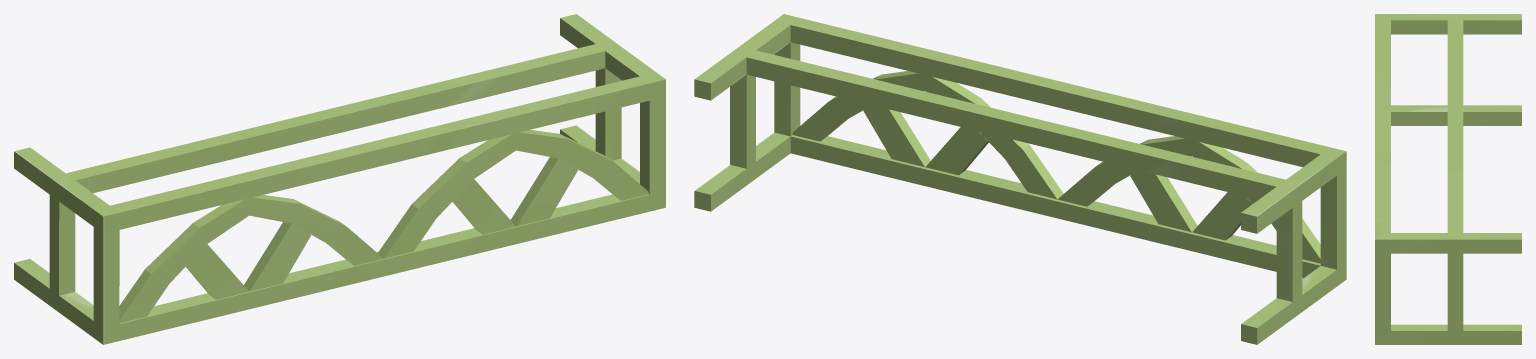
The model's file is GridTop.glb.
3 renders of one model, left to right at view 1: azimuth 30°, elevation 25°; view 2: azimuth 150°, elevation 25°; view 3: azimuth 270°, elevation 25°, orthographic. The views are drawn at different scales.
Visible parts, largest first — view 1: GridTop; view 2: GridTop; view 3: GridTop.
Part boxes in pixels (<box>): GridTop: <box>14,14,665,344</box>; GridTop: <box>694,14,1346,344</box>; GridTop: <box>1375,14,1521,344</box>.
Size of the model in its own units: 2.44 by 0.5314 by 0.6712.
Materials: 1 (1 with a texture image).
